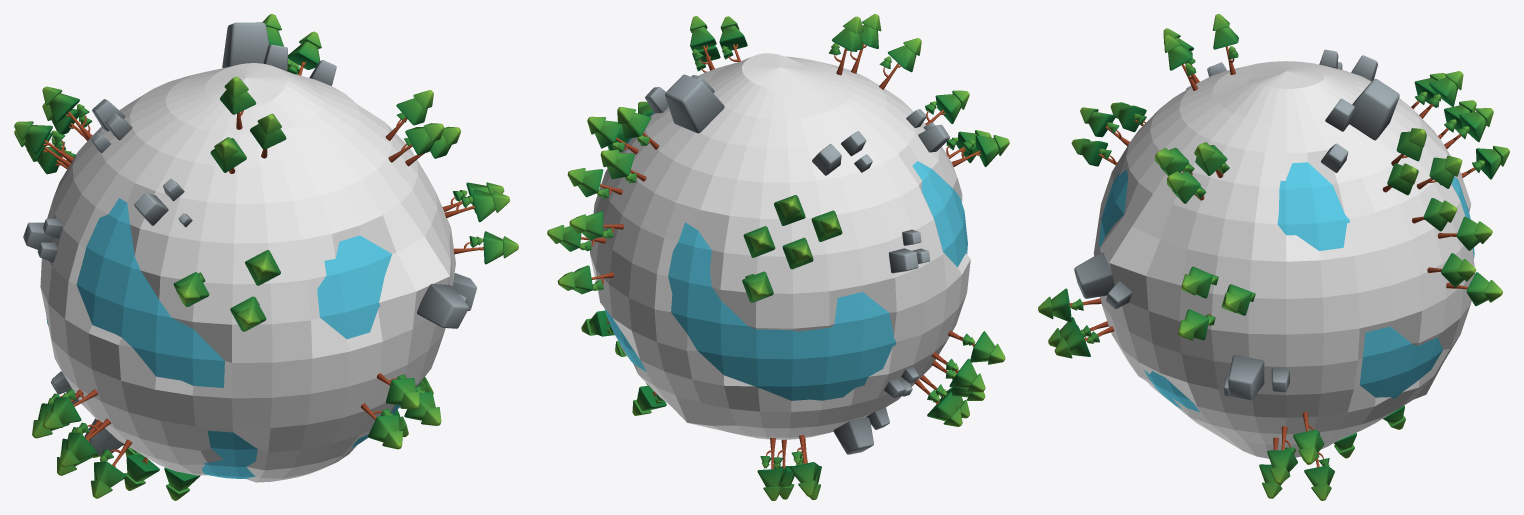
Rendered from Planet.glb.
3 renders of one model, left to right at view 1: azimuth 30°, elevation 25°; view 2: azimuth 150°, elevation 25°; view 3: azimuth 270°, elevation 25°, orthographic. The views are drawn at different scales.
Visible parts, largest first — view 1: planet_terrain, planet_water, Rock_2_D_Color1.021, Rock_2_D_Color1.018, Tree_4_A_Color1.029, Tree_4_A_Color1.030, Tree_4_A_Color1.032, Tree_4_A_Color1.011, Tree_4_A_Color1.036, Tree_4_A_Color1.037, Tree_4_A_Color1.016, Tree_4_A_Color1.014 (+19 smaller); view 2: planet_terrain, planet_water, Rock_2_D_Color1.021, Rock_2_D_Color1.013, Tree_4_A_Color1.006, Tree_4_A_Color1.002, Tree_4_A_Color1.019, Tree_4_A_Color1.018, Tree_4_A_Color1.020, Tree_4_A_Color1.032, Tree_4_A_Color1.003, Tree_4_A_Color1.007 (+23 smaller); view 3: planet_terrain, planet_water, Rock_2_D_Color1.021, Rock_2_D_Color1.016, Rock_2_D_Color1.018, Tree_4_A_Color1.013, Tree_4_A_Color1.012, Tree_4_A_Color1.026, Tree_4_A_Color1.036, Tree_4_A_Color1.035, Tree_4_A_Color1.033, Tree_4_A_Color1.021 (+24 smaller).
Boxes of the visible parts, x1,y1,x2,y2 form: planet_terrain: [40, 63, 455, 482]; planet_water: [46, 198, 400, 478]; Rock_2_D_Color1.021: [222, 22, 269, 67]; Rock_2_D_Color1.018: [417, 283, 468, 328]; Tree_4_A_Color1.029: [91, 439, 131, 498]; Tree_4_A_Color1.030: [59, 418, 110, 467]; Tree_4_A_Color1.032: [42, 389, 97, 429]; Tree_4_A_Color1.011: [361, 403, 403, 449]; Tree_4_A_Color1.036: [42, 86, 92, 139]; Tree_4_A_Color1.037: [14, 121, 73, 162]; Tree_4_A_Color1.016: [444, 189, 509, 222]; Tree_4_A_Color1.014: [453, 231, 518, 264]; planet_terrain: [590, 53, 970, 439]; planet_water: [604, 112, 967, 400]; Rock_2_D_Color1.021: [665, 74, 724, 133]; Rock_2_D_Color1.013: [833, 417, 873, 454]; Tree_4_A_Color1.006: [951, 135, 1009, 167]; Tree_4_A_Color1.002: [829, 16, 863, 75]; Tree_4_A_Color1.019: [617, 107, 659, 149]; Tree_4_A_Color1.018: [587, 116, 638, 154]; Tree_4_A_Color1.020: [567, 168, 622, 198]; Tree_4_A_Color1.032: [948, 330, 1005, 364]; Tree_4_A_Color1.003: [879, 38, 921, 89]; Tree_4_A_Color1.007: [925, 90, 969, 125]; planet_terrain: [1093, 61, 1474, 458]; planet_water: [1099, 162, 1474, 412]; Rock_2_D_Color1.021: [1349, 78, 1399, 140]; Rock_2_D_Color1.016: [1228, 355, 1264, 400]; Rock_2_D_Color1.018: [1074, 252, 1115, 298]; Tree_4_A_Color1.013: [1038, 288, 1101, 322]; Tree_4_A_Color1.012: [1054, 325, 1114, 358]; Tree_4_A_Color1.026: [1267, 426, 1297, 484]; Tree_4_A_Color1.036: [1419, 71, 1463, 118]; Tree_4_A_Color1.035: [1444, 108, 1493, 148]; Tree_4_A_Color1.033: [1461, 146, 1509, 179]; Tree_4_A_Color1.021: [1437, 216, 1492, 250].
Bounding box in the file's own units: 37.39 × 37.82 × 36.78.
Materials: 3 (2 with a texture image).
